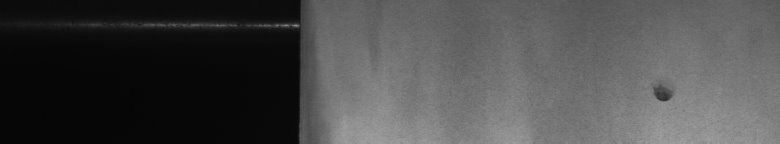fi: (648, 80, 679, 108)
